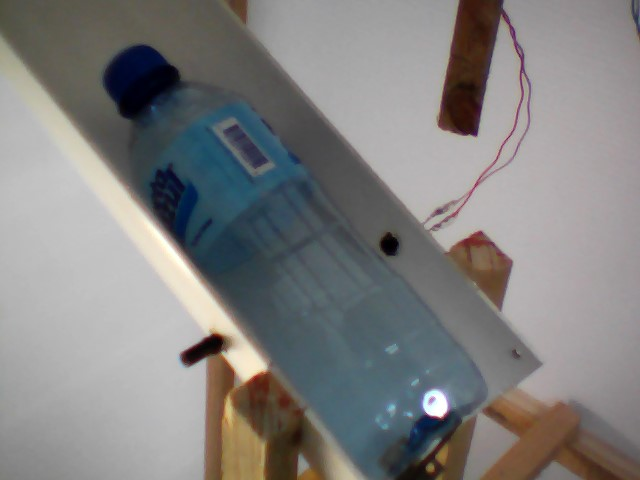plastico: (96, 26, 496, 480)
